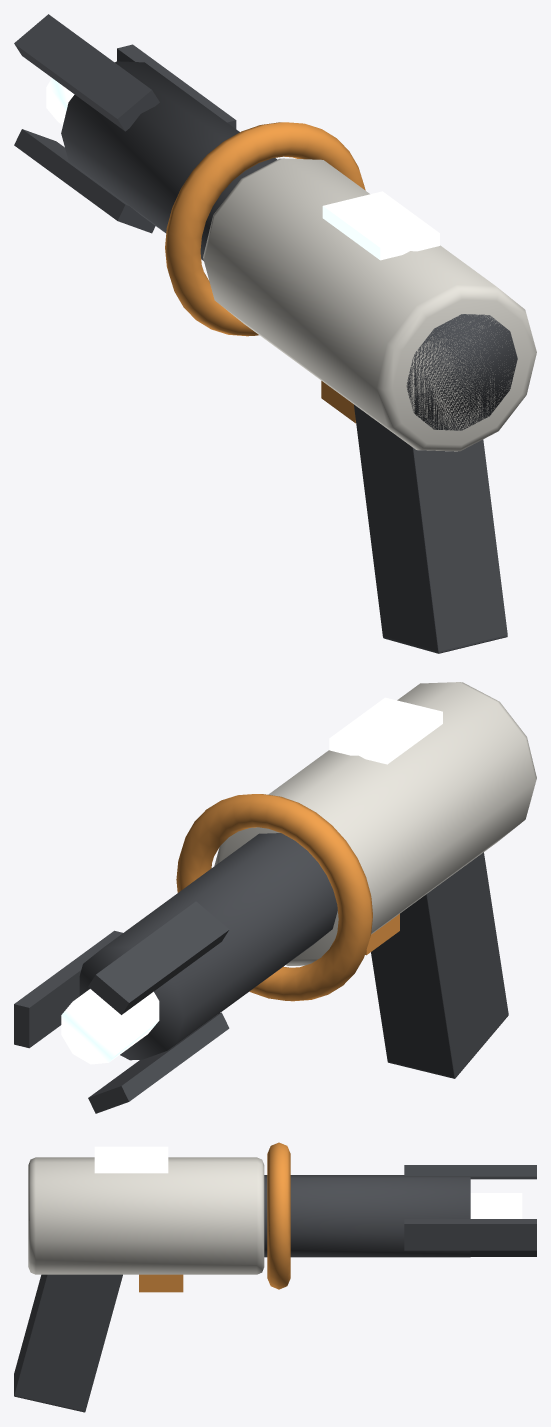
Rendered from cutter.glb.
The picture shows the model from 3 angles, top to bottom: view 1: azimuth 30°, elevation 25°; view 2: azimuth 150°, elevation 25°; view 3: azimuth 270°, elevation 25°; orthographic projection. The views are drawn at different scales.
Parts seen in each view (by area): view 1: cutter; view 2: cutter; view 3: cutter.
Part boxes in pixels (x1,y1,x2,y2): cutter: (14, 14, 536, 653); cutter: (14, 682, 536, 1113); cutter: (14, 1142, 536, 1412).
Bounding box in the file's own units: 0.1 × 0.189 × 0.3548.
